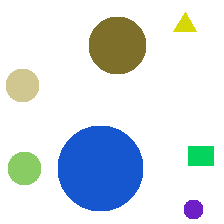circle: (58, 126, 142, 210), (89, 17, 145, 73), (8, 152, 40, 184), (6, 69, 38, 101), (184, 200, 202, 218)
rectangle: (188, 146, 213, 165)
triangle: (173, 12, 196, 31)
